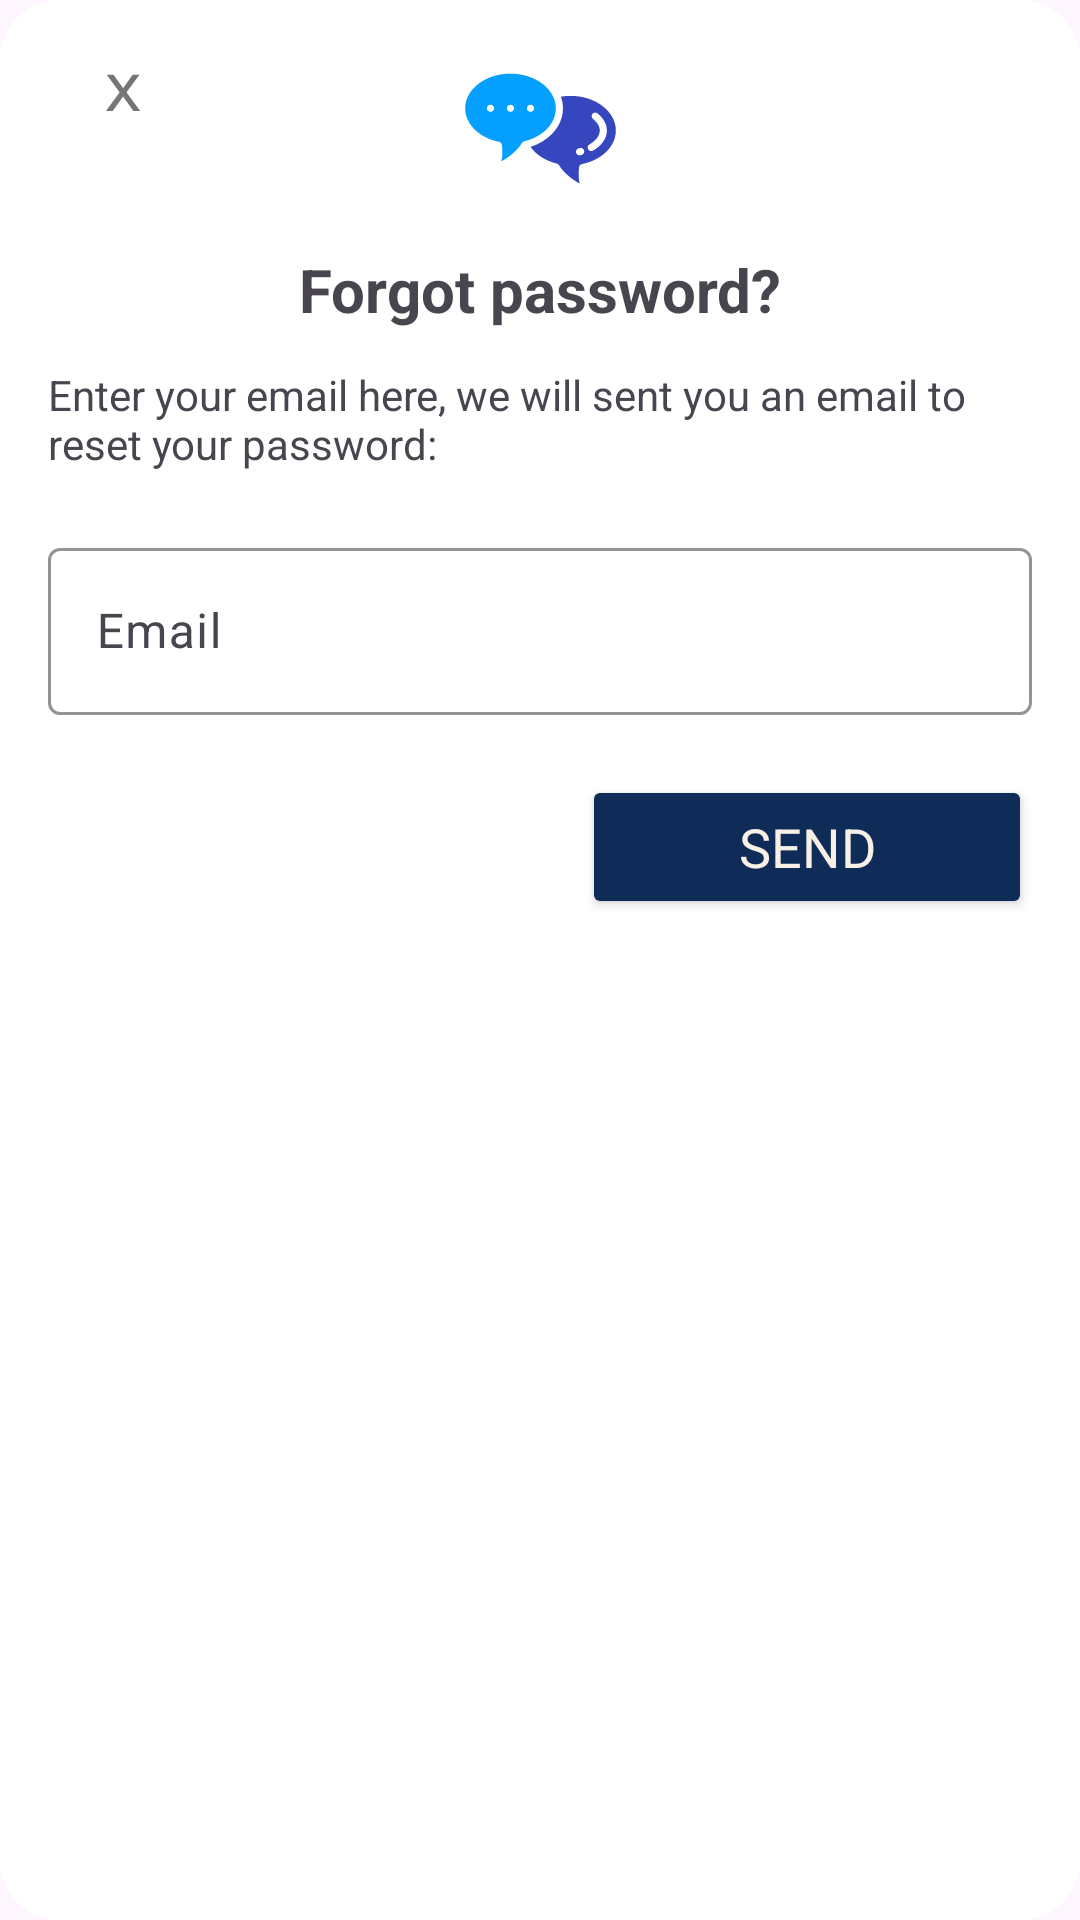

Where icons sit on this 1080x1920 app screen, as (x1, y1, x2, y2):
cancel: (106, 74, 140, 111)
